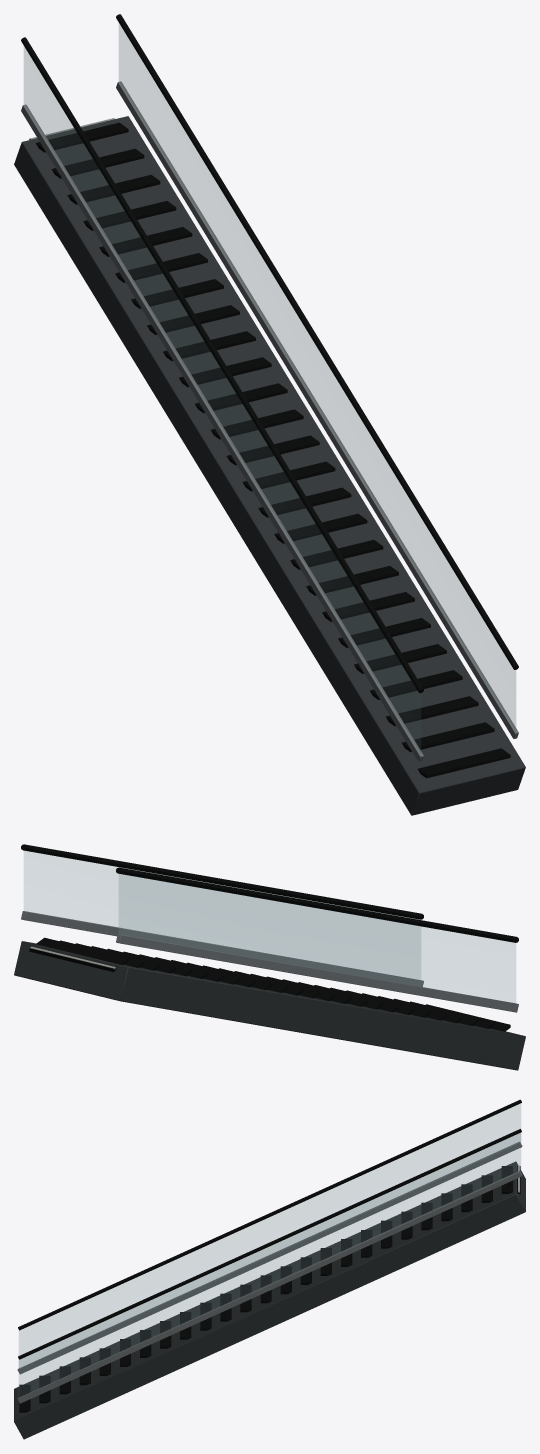
The model's file is ap-escalator.glb.
3 renders of one model, top to bottom at view 1: azimuth 30°, elevation 25°; view 2: azimuth 150°, elevation 25°; view 3: azimuth 270°, elevation 25°, orthographic. The views are drawn at different scales.
Parts seen in each view (by area): view 1: truss__steel, balustrade__glass, steps__steel, handrail__rubber; view 2: balustrade__glass, truss__steel, steps__steel, handrail__rubber; view 3: balustrade__glass, truss__steel, steps__steel, handrail__rubber.
Boxes of the visible parts, left/top/right/bottom form: truss__steel: left=14, top=81, right=525, bottom=815; balustrade__glass: left=24, top=24, right=515, bottom=752; steps__steel: left=29, top=118, right=510, bottom=778; handrail__rubber: left=21, top=14, right=518, bottom=693; balustrade__glass: left=24, top=851, right=515, bottom=1002; truss__steel: left=14, top=911, right=525, bottom=1070; steps__steel: left=29, top=937, right=510, bottom=1031; handrail__rubber: left=21, top=844, right=518, bottom=942; balustrade__glass: left=18, top=1104, right=521, bottom=1397; truss__steel: left=14, top=1141, right=525, bottom=1439; steps__steel: left=19, top=1165, right=520, bottom=1412; handrail__rubber: left=18, top=1099, right=521, bottom=1359.
Size of the model in its own units: 1.4 by 6.11 by 9.17.
